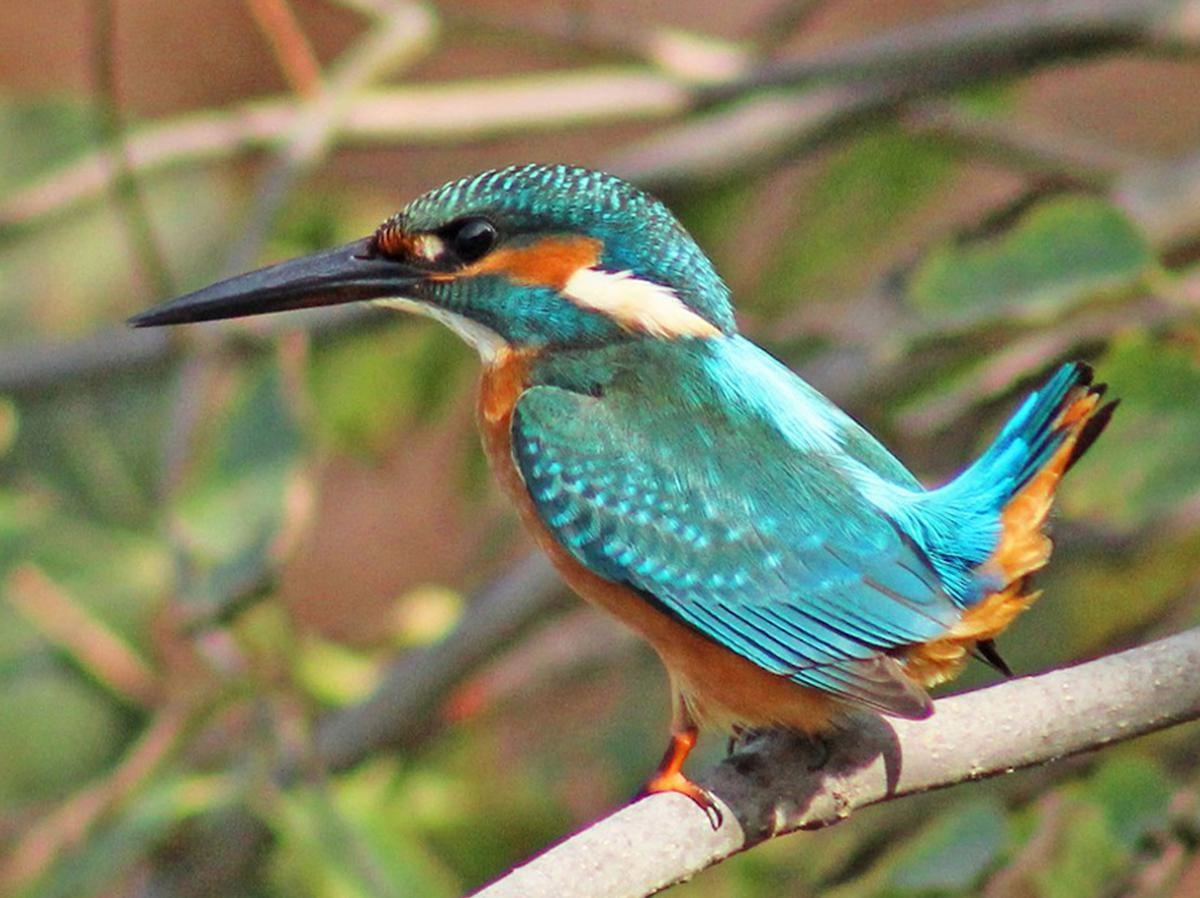kingfisher: (123, 145, 1066, 820)
